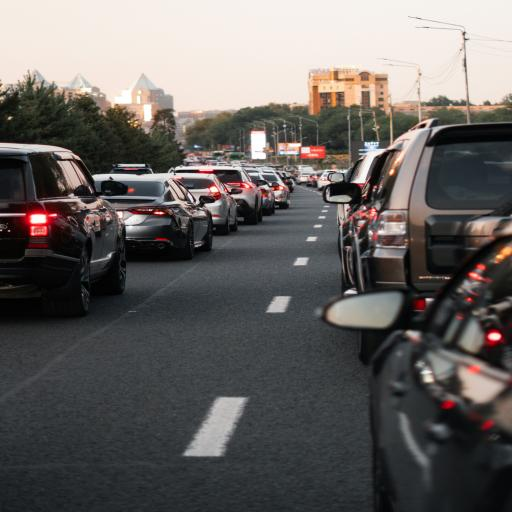car: (325, 219, 511, 511), (324, 120, 511, 299), (0, 144, 126, 316), (109, 174, 214, 259), (172, 166, 262, 224), (175, 174, 238, 235), (345, 150, 385, 186), (246, 168, 275, 215), (261, 170, 289, 209), (109, 164, 154, 175), (275, 171, 296, 193), (318, 171, 333, 192), (312, 171, 323, 187), (297, 171, 310, 184), (284, 166, 299, 176), (297, 165, 314, 173), (307, 173, 315, 186)
